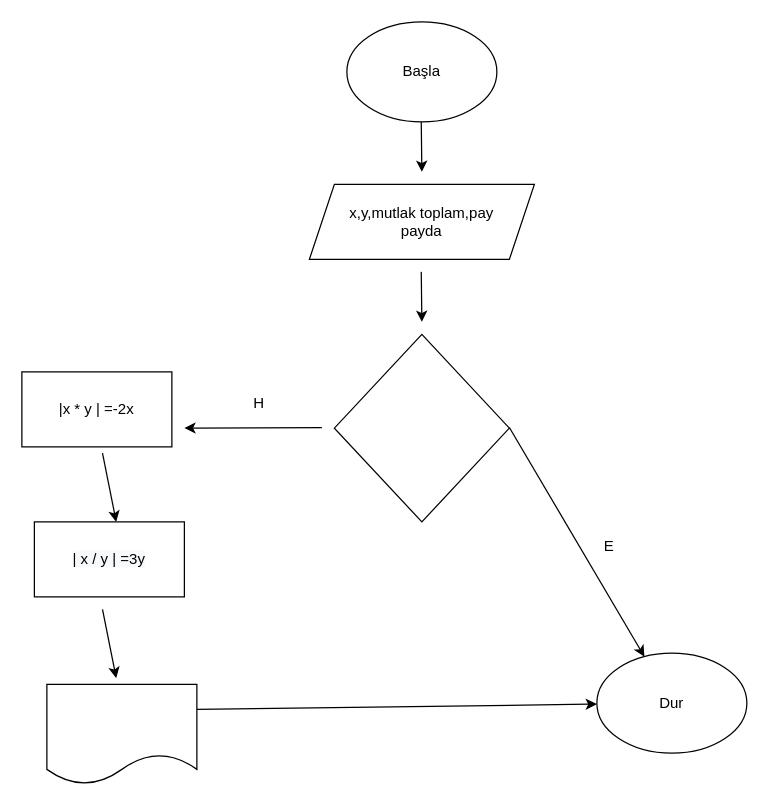
Image size: 769x806. Some labels were removed from this diagram. The shapes that lost their labels are listed below. From the top down, each one's centre as x and y in pixels, then its label:
the point at 421,427: x<=0 & y<= 0
the point at 121,733: Mutlak Toplam
